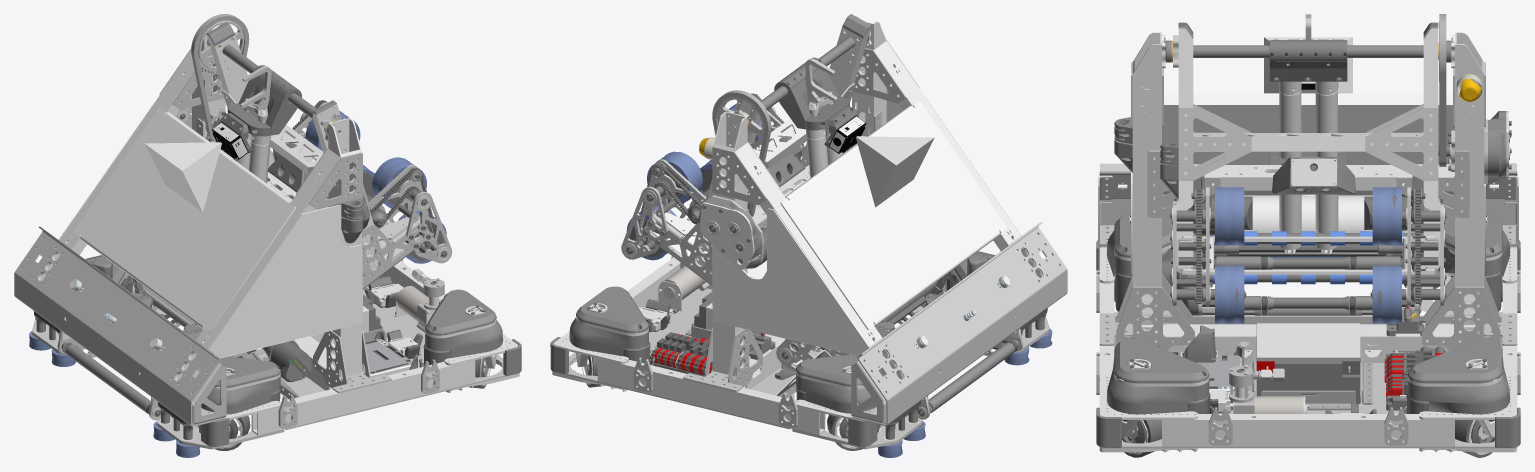
File: midkey-web.glb
3 renders of one model, left to right at view 1: azimuth 30°, elevation 25°; view 2: azimuth 150°, elevation 25°; view 3: azimuth 270°, elevation 25°, orthographic. The views are drawn at different scales.
Visible parts, largest first — view 1: OPR24-P055, OPR24-P400-R3, mesh167_mesh, OPR24-P065, OPR24-P403-R1, #10 Washer (5/8" OD, 0.031" WD, Steel, Black Zinc), mesh162_mesh, MK4i Shaft, Drive Idler, 4" Stealth Wheel (50A, 1/2" Hex Bore), PGU14, Viair 90C Air Compressor (12V, 12A), 135T 5M 9mm Wide DS Belt (+3 smaller); view 2: OPR24-P055, OPR24-P400-R3, mesh167_mesh, OPR24-P065, OPR24-P403-R1, mesh162_mesh, #10 Washer (5/8" OD, 0.031" WD, Steel, Black Zinc), MK4i Shaft, Drive Idler, 4" Stealth Wheel (50A, 1/2" Hex Bore), OPR24-P307, PGU14, Part 2 (+5 smaller); view 3: mesh167_mesh, OPR24-P400-R3, OPR24-P065, OPR24-P403-R1, MK4i Shaft, Drive Idler, OPR24-P055, #10 Washer (5/8" OD, 0.031" WD, Steel, Black Zinc), 4" Stealth Wheel (50A, 1/2" Hex Bore), Part 2, PGU14, Viair 90C Air Compressor (12V, 12A), Sushi Roller (50A, 1/2" Hex Bore) (+10 smaller).
Part boxes in pixels (x1,y1,x2,y2): OPR24-P055: [58, 104, 394, 373]; OPR24-P400-R3: [14, 18, 520, 449]; mesh167_mesh: [35, 25, 480, 435]; OPR24-P065: [34, 22, 521, 446]; OPR24-P403-R1: [61, 65, 450, 401]; #10 Washer (5/8" OD, 0.031" WD, Steel, Black Zinc): [31, 111, 489, 450]; mesh162_mesh: [144, 142, 221, 211]; MK4i Shaft, Drive Idler: [119, 273, 519, 448]; 4" Stealth Wheel (50A, 1/2" Hex Bore): [29, 110, 446, 457]; PGU14: [191, 14, 387, 341]; Viair 90C Air Compressor (12V, 12A): [397, 277, 444, 332]; 135T 5M 9mm Wide DS Belt: [273, 100, 439, 373]; OPR24-P055: [680, 89, 1022, 366]; OPR24-P400-R3: [552, 34, 1067, 449]; mesh167_mesh: [592, 16, 1046, 434]; OPR24-P065: [550, 14, 1047, 446]; OPR24-P403-R1: [623, 57, 1019, 400]; mesh162_mesh: [856, 136, 934, 207]; #10 Washer (5/8" OD, 0.031" WD, Steel, Black Zinc): [584, 126, 1049, 450]; MK4i Shaft, Drive Idler: [552, 269, 960, 448]; 4" Stealth Wheel (50A, 1/2" Hex Bore): [626, 104, 1052, 457]; OPR24-P307: [699, 202, 754, 269]; PGU14: [685, 90, 771, 339]; Part 2: [806, 91, 844, 177]; mesh167_mesh: [1099, 28, 1517, 446]; OPR24-P400-R3: [1096, 14, 1520, 448]; OPR24-P065: [1096, 22, 1520, 447]; OPR24-P403-R1: [1115, 39, 1501, 413]; MK4i Shaft, Drive Idler: [1099, 216, 1517, 454]; OPR24-P055: [1131, 93, 1485, 275]; #10 Washer (5/8" OD, 0.031" WD, Steel, Black Zinc): [1114, 121, 1511, 457]; 4" Stealth Wheel (50A, 1/2" Hex Bore): [1215, 187, 1401, 323]; Part 2: [1278, 81, 1338, 254]; PGU14: [1244, 14, 1446, 410]; Viair 90C Air Compressor (12V, 12A): [1229, 366, 1302, 413]; Sushi Roller (50A, 1/2" Hex Bore): [1213, 231, 1403, 284].
Bounding box in the file's own units: 0.7874 × 0.6934 × 0.7366.
